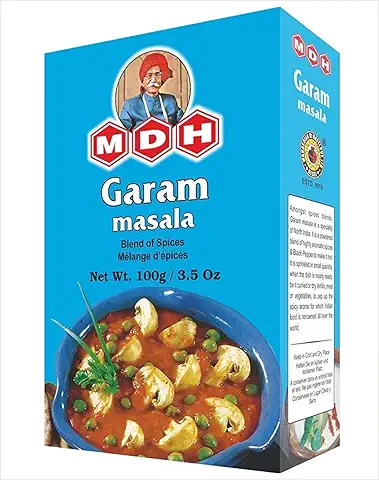Garamasala: (38, 6, 344, 480)
